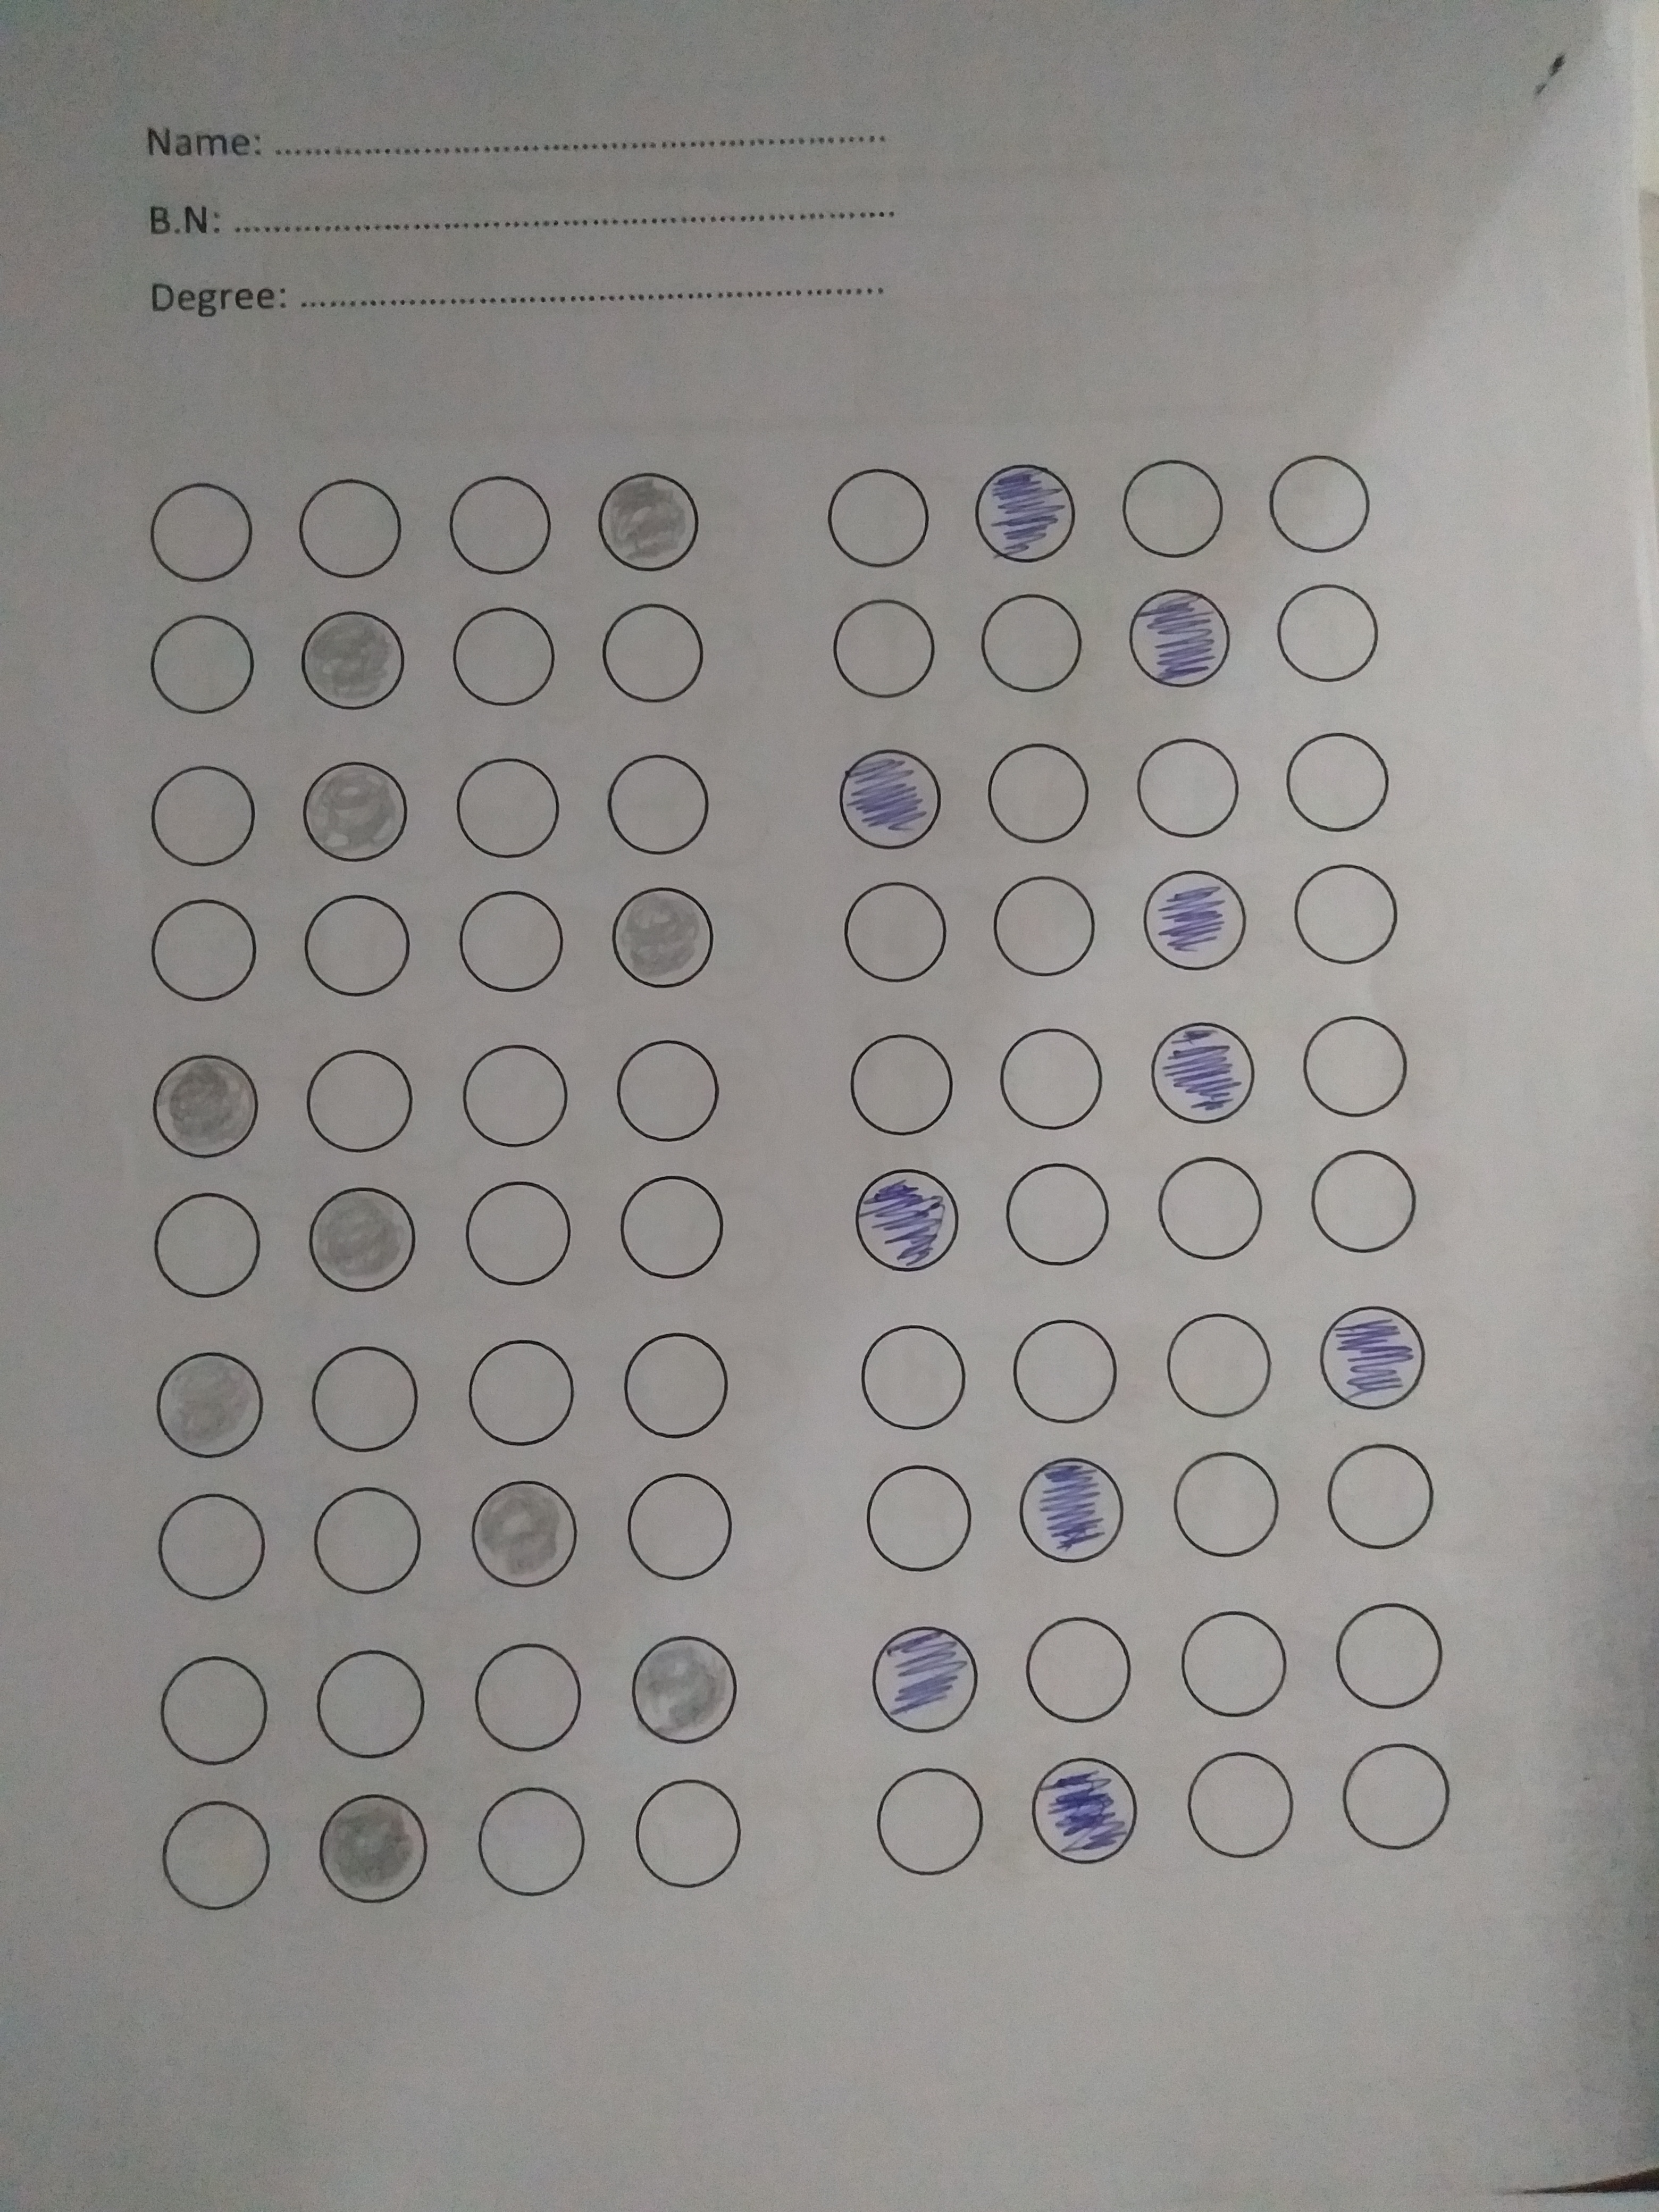not-c: (295, 888, 415, 1001), (979, 869, 1100, 982), (1161, 1312, 1281, 1425), (1337, 1742, 1457, 1855), (143, 604, 261, 718), (148, 1186, 267, 1299), (469, 1785, 587, 1898), (443, 467, 563, 578), (148, 477, 268, 589), (443, 603, 563, 714), (587, 601, 708, 712), (598, 751, 718, 862), (441, 752, 561, 864), (145, 754, 265, 866), (150, 890, 270, 1001), (821, 469, 941, 580), (1105, 453, 1225, 564), (976, 740, 1096, 852), (1121, 730, 1241, 841), (838, 1026, 958, 1137), (988, 1022, 1108, 1134), (1295, 1008, 1415, 1120), (1303, 1148, 1424, 1259), (1154, 1150, 1274, 1261), (1000, 1162, 1121, 1273), (1011, 1318, 1131, 1430), (1326, 1442, 1446, 1554), (857, 1463, 978, 1575), (451, 1042, 572, 1153), (295, 1049, 415, 1160), (457, 1179, 577, 1291), (617, 1170, 737, 1282), (619, 1329, 739, 1440), (307, 1343, 427, 1454), (153, 1489, 274, 1601), (315, 1648, 436, 1759), (153, 1653, 274, 1764), (155, 1801, 275, 1912), (633, 1778, 753, 1890), (1182, 1606, 1302, 1717), (1331, 1599, 1452, 1710), (1178, 1745, 1298, 1857), (293, 474, 411, 585), (455, 888, 573, 1000), (1256, 448, 1375, 559), (1270, 570, 1389, 681), (981, 589, 1100, 700), (831, 594, 950, 705), (1276, 728, 1394, 840), (1288, 857, 1406, 968), (835, 878, 953, 989), (856, 1320, 974, 1432), (1169, 1447, 1288, 1559), (608, 1040, 727, 1151), (462, 1341, 580, 1453), (308, 1486, 427, 1597), (624, 1475, 742, 1587), (471, 1644, 589, 1756), (866, 1770, 985, 1881), (1016, 1616, 1134, 1728)
taken-c: (863, 1622, 990, 1735), (1019, 1754, 1147, 1867), (624, 1632, 751, 1745), (460, 1475, 587, 1588), (148, 1346, 275, 1460), (312, 1791, 437, 1904), (303, 1179, 423, 1292), (603, 881, 723, 995), (1310, 1299, 1429, 1413), (296, 756, 416, 867), (1134, 862, 1255, 974), (592, 465, 713, 577), (293, 603, 413, 714), (850, 1163, 969, 1275), (1014, 1453, 1133, 1564), (148, 1054, 267, 1165), (1143, 1019, 1262, 1130), (1122, 580, 1241, 691), (965, 456, 1084, 568), (831, 745, 950, 857)
